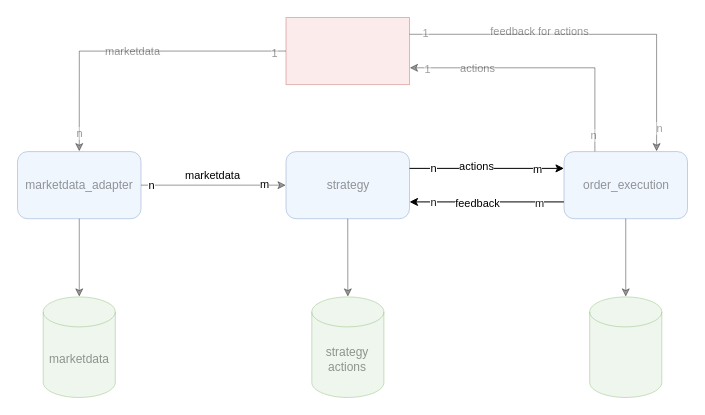
Image size: 705x415. Some labels were removed from this diagram. The centre of each missing label's shape, as x and y in pixels:
Exchange: (x=347, y=50)
order actions + feedback: (x=625, y=347)
